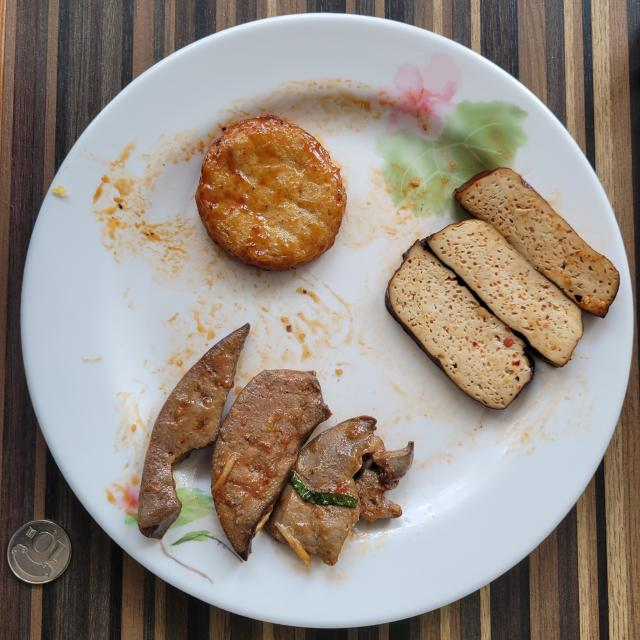coin: (8, 520, 71, 584)
firm tofu: (385, 168, 619, 409)
fish cake: (196, 115, 346, 271)
pig liver: (138, 325, 412, 566)
